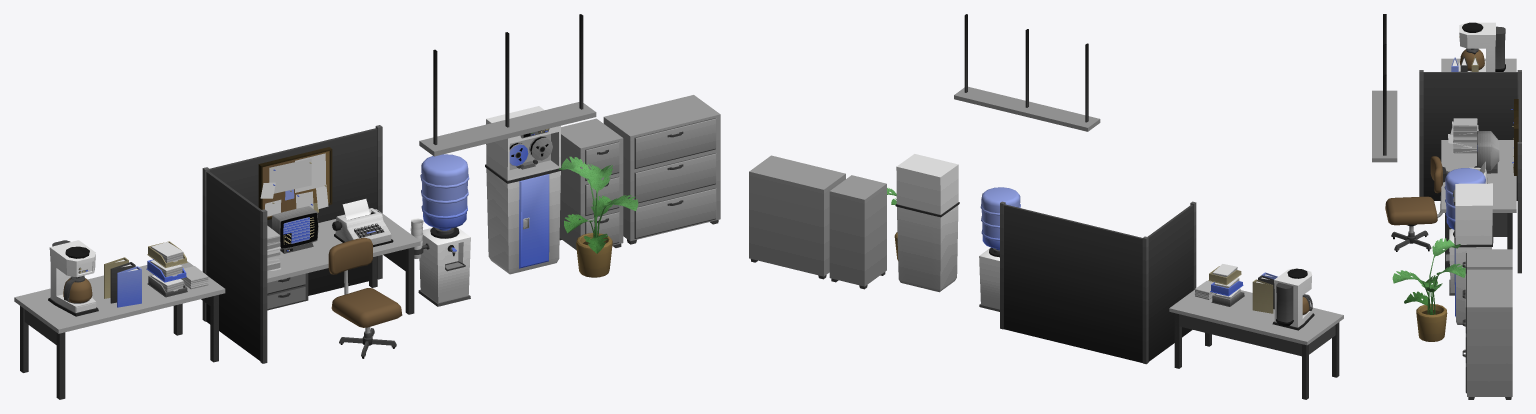
File: GUOfficePropSet.fbx
3 renders of one model, left to right at view 1: azimuth 30°, elevation 25°; view 2: azimuth 150°, elevation 25°; view 3: azimuth 270°, elevation 25°, orthographic. The views are drawn at different scales.
Visible parts, largest first — view 1: CubicleWalls, Cabinet.001, Tape, WaterCooler, DeskA.001, Cabinet, DeskA, Cube, CorkBoard, Chair, Plant, Coffee (+4 smaller); view 2: CubicleWalls, Cabinet.001, Tape, DeskA.001, Cabinet, Cube, WaterCooler, Coffee, BinderSecClr; view 3: CubicleWalls, Cabinet.001, Tape, DeskA, Chair, Plant, Cube, Coffee, WaterCooler, Cabinet, PaperStack.001, PC (+2 smaller).
Boxes of the visible parts, x1=… form: CubicleWalls: x1=202, y1=125, x2=382, y2=363; Cabinet.001: x1=603, y1=95, x2=720, y2=244; Tape: x1=485, y1=106, x2=561, y2=274; WaterCooler: x1=410, y1=154, x2=470, y2=306; DeskA.001: x1=14, y1=261, x2=225, y2=399; Cabinet: x1=559, y1=118, x2=623, y2=249; DeskA: x1=267, y1=209, x2=420, y2=314; Cube: x1=419, y1=14, x2=596, y2=156; CorkBoard: x1=258, y1=147, x2=332, y2=219; Chair: x1=328, y1=237, x2=402, y2=358; Plant: x1=559, y1=156, x2=638, y2=277; Coffee: x1=48, y1=240, x2=98, y2=316; CubicleWalls: x1=1000, y1=201, x2=1196, y2=364; Cabinet.001: x1=749, y1=155, x2=845, y2=279; Tape: x1=895, y1=154, x2=959, y2=292; DeskA.001: x1=1169, y1=290, x2=1343, y2=399; Cabinet: x1=829, y1=175, x2=886, y2=289; Cube: x1=954, y1=14, x2=1100, y2=131; WaterCooler: x1=979, y1=187, x2=1020, y2=311; Coffee: x1=1272, y1=268, x2=1314, y2=330; BinderSecClr: x1=1252, y1=279, x2=1273, y2=313; CubicleWalls: x1=1419, y1=70, x2=1521, y2=273; Cabinet.001: x1=1462, y1=269, x2=1512, y2=399; Tape: x1=1453, y1=183, x2=1493, y2=324; DeskA: x1=1441, y1=140, x2=1516, y2=268; Chair: x1=1385, y1=156, x2=1449, y2=251; Plant: x1=1392, y1=238, x2=1465, y2=341; Cube: x1=1372, y1=14, x2=1397, y2=162; Coffee: x1=1458, y1=22, x2=1505, y2=71; WaterCooler: x1=1444, y1=168, x2=1485, y2=295; Cabinet: x1=1462, y1=249, x2=1512, y2=322; PaperStack.001: x1=1448, y1=118, x2=1478, y2=153; PC: x1=1477, y1=131, x2=1499, y2=173.
Size of the model in its own units: 1031 by 430 by 232.
